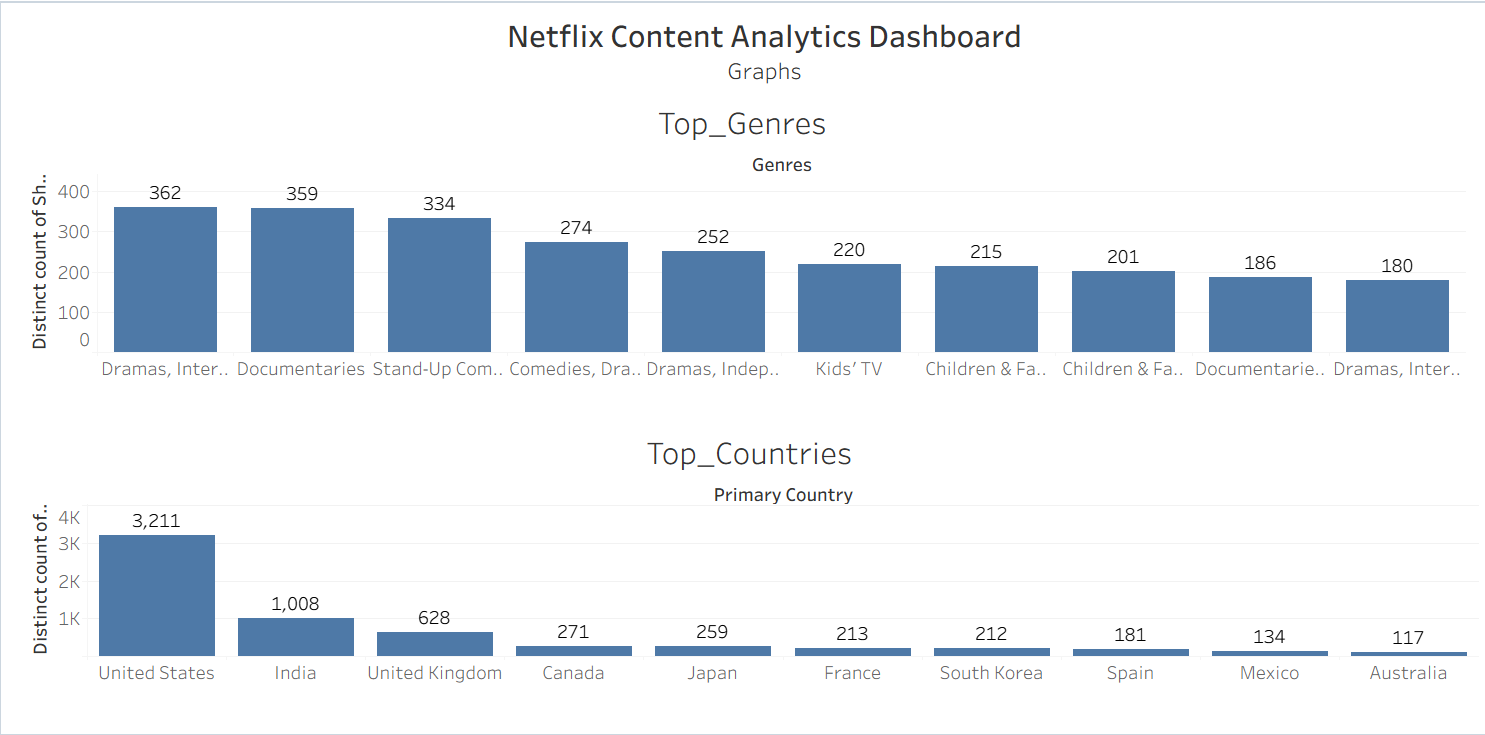

The dashboard page shown, as its layout file describes it:
{"tool":"tableau","page":{"name":"Netflix_Analytics_Dashboard2","canvas":[1000,1000],"units":"permille","ordinal":1},"visuals":[{"type":"title","box":[52,16.1,924.7,115.1]},{"type":"worksheet","title":"Top_Genres","mark":"Automatic","rows":["show_id"],"cols":["genres"],"box":[17.3,136.6,964.7,394.9]},{"type":"worksheet","title":"Top_Countries","mark":"Automatic","rows":["show_id"],"cols":["primary_country"],"box":[18,578.3,972.7,360.1]}]}

Visuals, with their boxes on the dashboard's canvas, which has no fixed pixel size, in thousandths of its width and height (x1, y1, x2, y2). These are canvas units, not pixel positions in the 1485x735 screenshot, which may show the page scaled, cropped or inside an application window:
title: {"left": 52, "top": 16, "right": 977, "bottom": 131}
"Top_Genres" worksheet: {"left": 17, "top": 137, "right": 982, "bottom": 532}
"Top_Countries" worksheet: {"left": 18, "top": 578, "right": 991, "bottom": 938}
